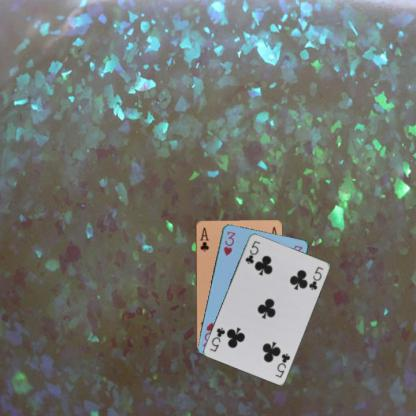3h: (221, 228, 236, 258)
5c: (243, 238, 261, 265), (273, 351, 291, 378)
Ac: (197, 225, 210, 252)
